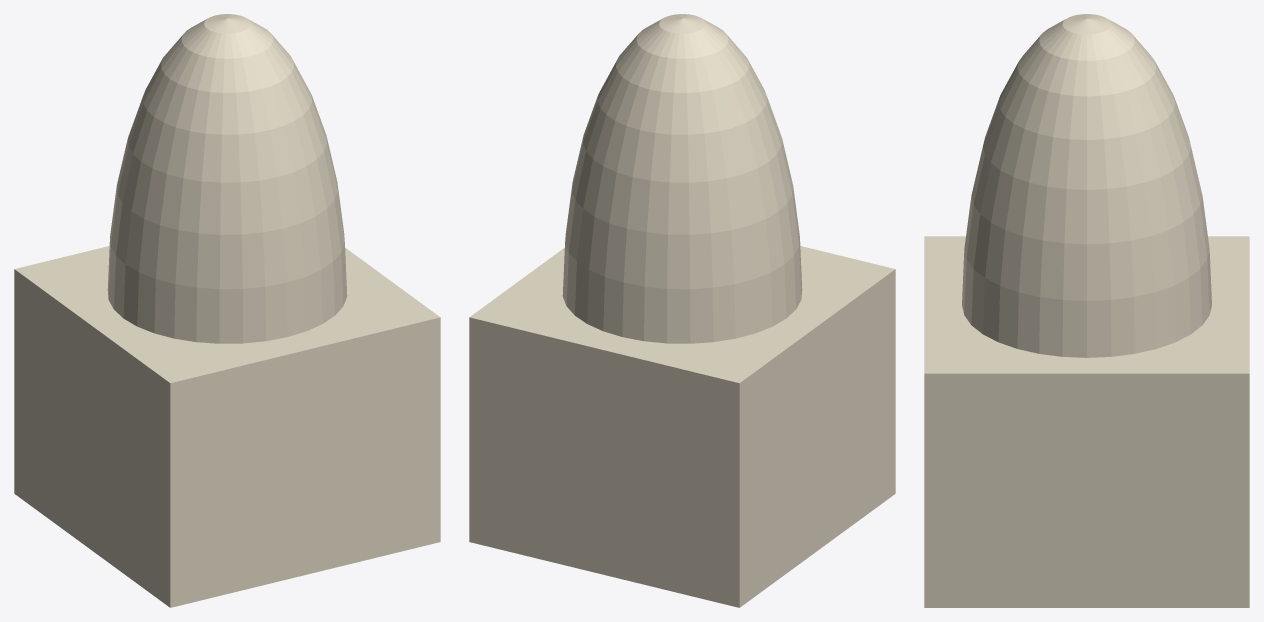
Rendered from place-imam-mosque-isfahan.glb.
The picture shows the model from 3 angles, left to right: view 1: azimuth 30°, elevation 25°; view 2: azimuth 150°, elevation 25°; view 3: azimuth 270°, elevation 25°; orthographic projection. The views are drawn at different scales.
Visible parts, largest first — view 1: place-imam-mosque-isfahan; view 2: place-imam-mosque-isfahan; view 3: place-imam-mosque-isfahan.
Boxes of the visible parts, bbox=[...] form: place-imam-mosque-isfahan: bbox=[14, 14, 440, 607]; place-imam-mosque-isfahan: bbox=[469, 14, 895, 607]; place-imam-mosque-isfahan: bbox=[924, 14, 1249, 607].
Size of the model in its own units: 29.44 by 52 by 29.44.
